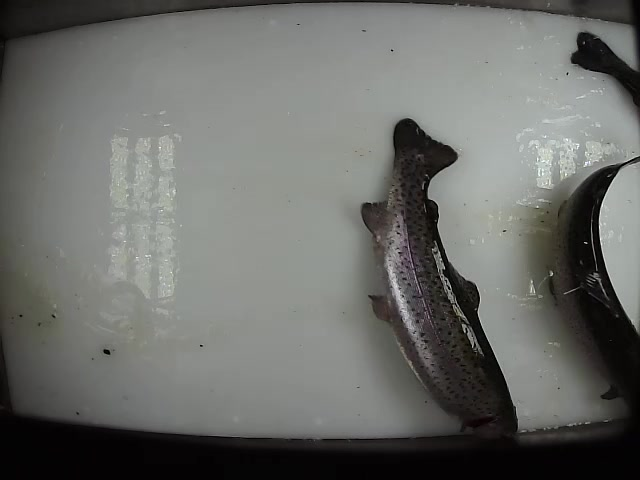fish: (357, 111, 519, 441), (558, 154, 640, 418)
